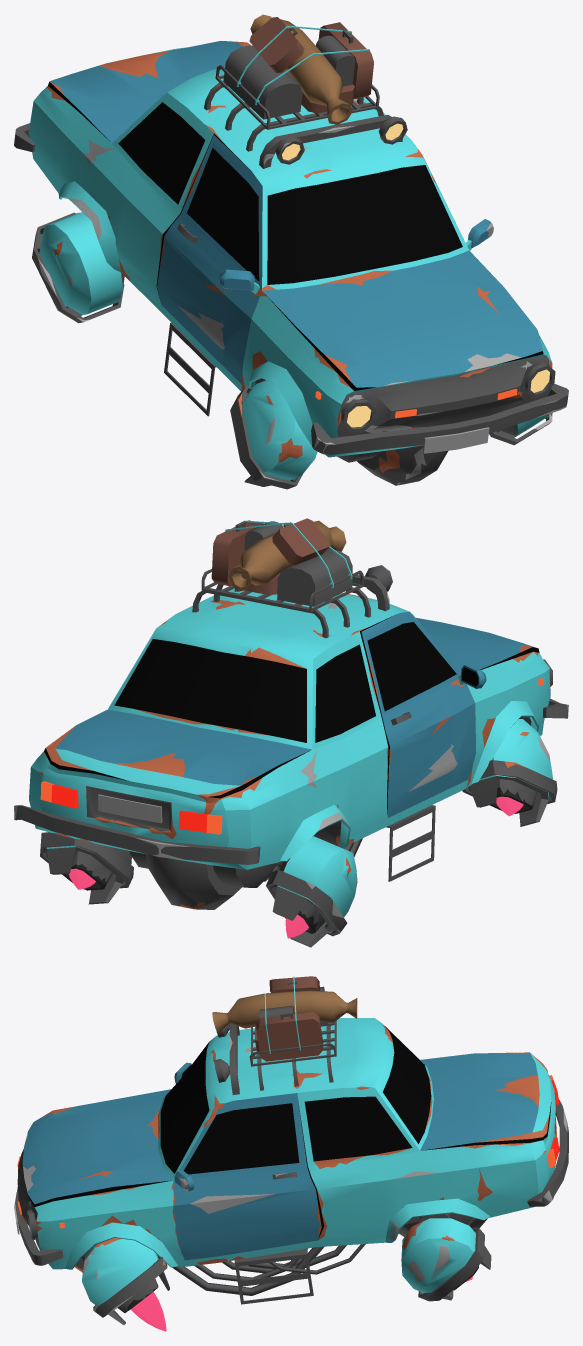
Rendered from car_secene_01.glb.
3 views of the same model, one above another, from view 1: azimuth 30°, elevation 25°; view 2: azimuth 150°, elevation 25°; view 3: azimuth 270°, elevation 25° (orthographic). The views are drawn at different scales.
Parts seen in each view (by area): view 1: car, Nozzle_rear_r, Nozzle_front_r, Nozzle_front_l; view 2: car, Nozzle_rear_r, Nozzle_front_r, Nozzle_rear_l; view 3: car, Nozzle_rear_l, Nozzle_front_l, cable.001, Nozzle_fire_front_l, cable.004, cable.002.
Boxes of the visible parts, x1,y1,x2,y2 form: car: (14, 14, 568, 485); Nozzle_rear_r: (32, 212, 124, 323); Nozzle_front_r: (230, 380, 317, 489); Nozzle_front_l: (489, 413, 552, 445); car: (14, 518, 568, 909); Nozzle_rear_r: (266, 836, 357, 947); Nozzle_front_r: (462, 719, 557, 826); Nozzle_rear_l: (40, 832, 133, 904); car: (14, 976, 568, 1304); Nozzle_rear_l: (401, 1218, 491, 1301); Nozzle_front_l: (82, 1238, 169, 1324); cable.001: (172, 1246, 322, 1295); Nozzle_fire_front_l: (131, 1292, 166, 1331); cable.004: (194, 1248, 307, 1281); cable.002: (269, 1244, 365, 1274).
Bounding box in the file's own units: 2 × 2.43 × 3.82.
